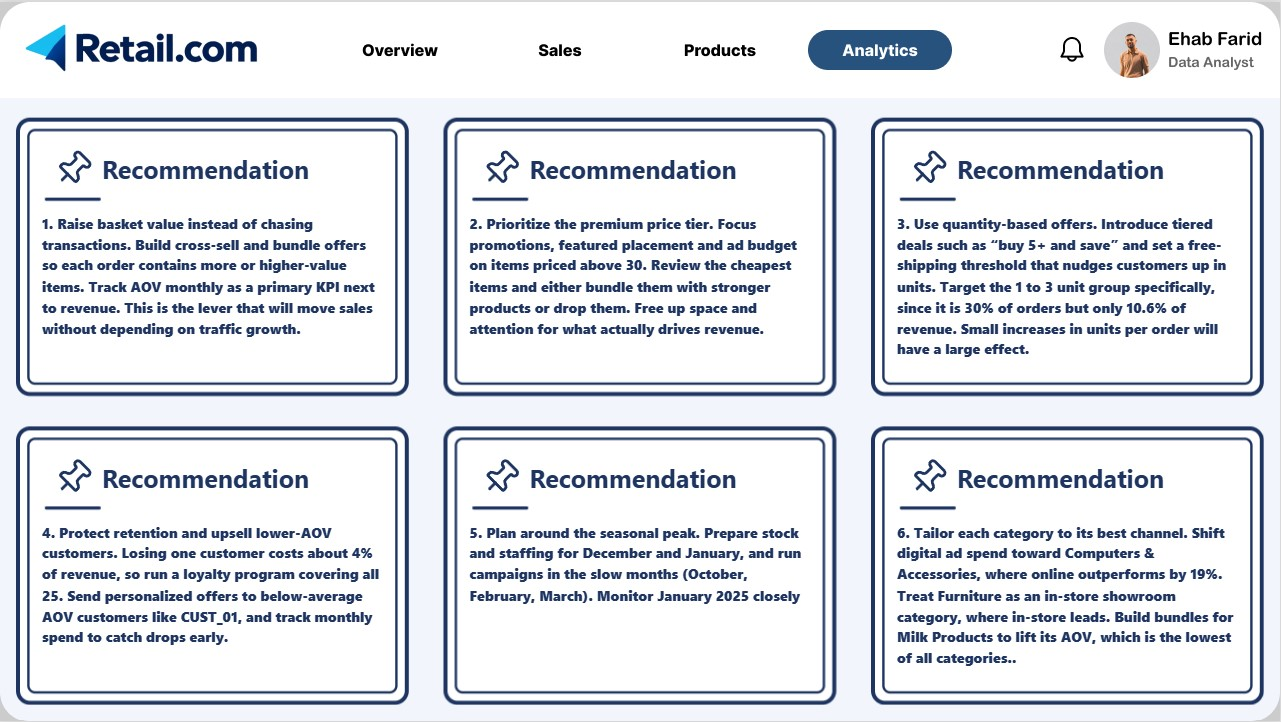

The dashboard page shown, as its layout file describes it:
{"tool":"powerbi","page":{"name":"Analytics","canvas":[1280,720],"ordinal":3},"visuals":[{"type":"htmlContent443BE3AD55E043BF878BED274D3A6855","fields":{"content":["Measures Table.Insight Flip Pr 1 Card 1"]},"box":[0,101.6,424.7,308.4],"z":0},{"type":"htmlContent443BE3AD55E043BF878BED274D3A6855","fields":{"content":["Measures Table.Flip Card 4"]},"box":[0,410,424.7,308.4],"z":1000},{"type":"htmlContent443BE3AD55E043BF878BED274D3A6855","fields":{"content":["Measures Table.Flip Card 2"]},"box":[427.5,101.2,424.7,308.4],"z":2000},{"type":"htmlContent443BE3AD55E043BF878BED274D3A6855","fields":{"content":["Measures Table.Flip Card 3"]},"box":[855,101.2,424.7,308.4],"z":3000},{"type":"htmlContent443BE3AD55E043BF878BED274D3A6855","fields":{"content":["Measures Table.Flip Card 5"]},"box":[427.5,410,424.7,308.4],"z":4000},{"type":"htmlContent443BE3AD55E043BF878BED274D3A6855","fields":{"content":["Measures Table.Flip Card 6"]},"box":[855,410,424.7,308.4],"z":5000},{"type":"actionButton","box":[488.7,27,145.2,41.7],"z":6000},{"type":"actionButton","box":[327.4,27,145.2,41.7],"z":7000},{"type":"actionButton","box":[646.5,27.5,145.2,41.7],"z":8000}]}

Visuals, with their boxes on the page's 1280x720 design canvas (x1, y1, x2, y2). These are canvas units, not pixel positions in the 1281x722 screenshot, which may show the page scaled, cropped or inside an application window:
htmlContent443BE3AD55E043BF878BED274D3A6855 - Measures Table.Insight Flip Pr 1 Card 1: 0 102 425 410
htmlContent443BE3AD55E043BF878BED274D3A6855 - Measures Table.Flip Card 4: 0 410 425 718
htmlContent443BE3AD55E043BF878BED274D3A6855 - Measures Table.Flip Card 2: 428 101 852 410
htmlContent443BE3AD55E043BF878BED274D3A6855 - Measures Table.Flip Card 3: 855 101 1280 410
htmlContent443BE3AD55E043BF878BED274D3A6855 - Measures Table.Flip Card 5: 428 410 852 718
htmlContent443BE3AD55E043BF878BED274D3A6855 - Measures Table.Flip Card 6: 855 410 1280 718
actionButton: 489 27 634 69
actionButton: 327 27 473 69
actionButton: 646 28 792 69
